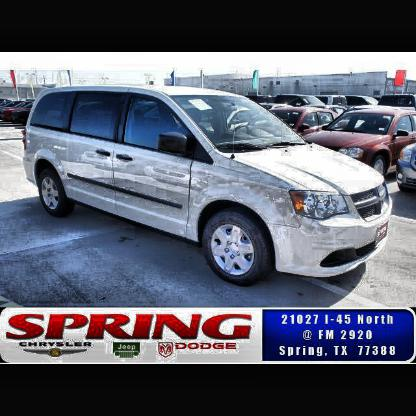Ram C-V Cargo Van Minivan 2012: (22, 84, 395, 291)
